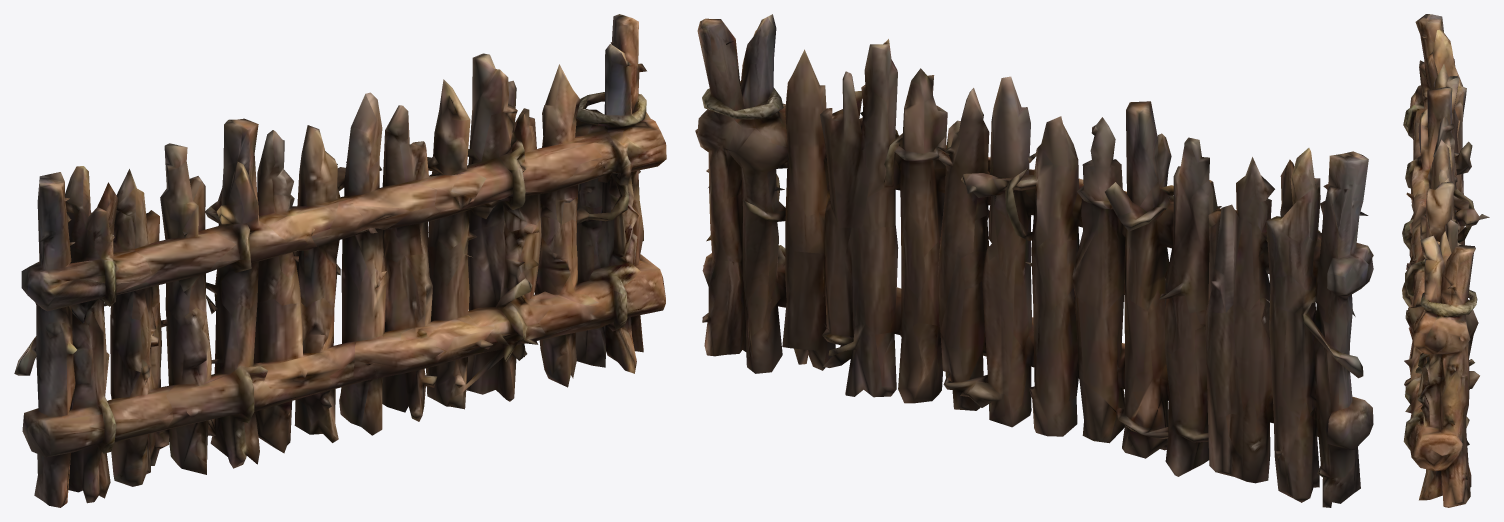
File: orcwall.glb
3 renders of one model, left to right at view 1: azimuth 30°, elevation 25°; view 2: azimuth 150°, elevation 25°; view 3: azimuth 270°, elevation 25°, orthographic. The views are drawn at different scales.
Parts seen in each view (by area): view 1: tripo_node_ee27e599-25ad-4432-8c42-2478f189229d; view 2: tripo_node_ee27e599-25ad-4432-8c42-2478f189229d; view 3: tripo_node_ee27e599-25ad-4432-8c42-2478f189229d.
Part boxes in pixels (x1,y1,x2,y2): tripo_node_ee27e599-25ad-4432-8c42-2478f189229d: (14,14,666,507); tripo_node_ee27e599-25ad-4432-8c42-2478f189229d: (695,14,1373,507); tripo_node_ee27e599-25ad-4432-8c42-2478f189229d: (1402,14,1489,507).
Bounding box in the file's own units: 1 × 0.5048 × 0.15.
1 material, 1 textured.
